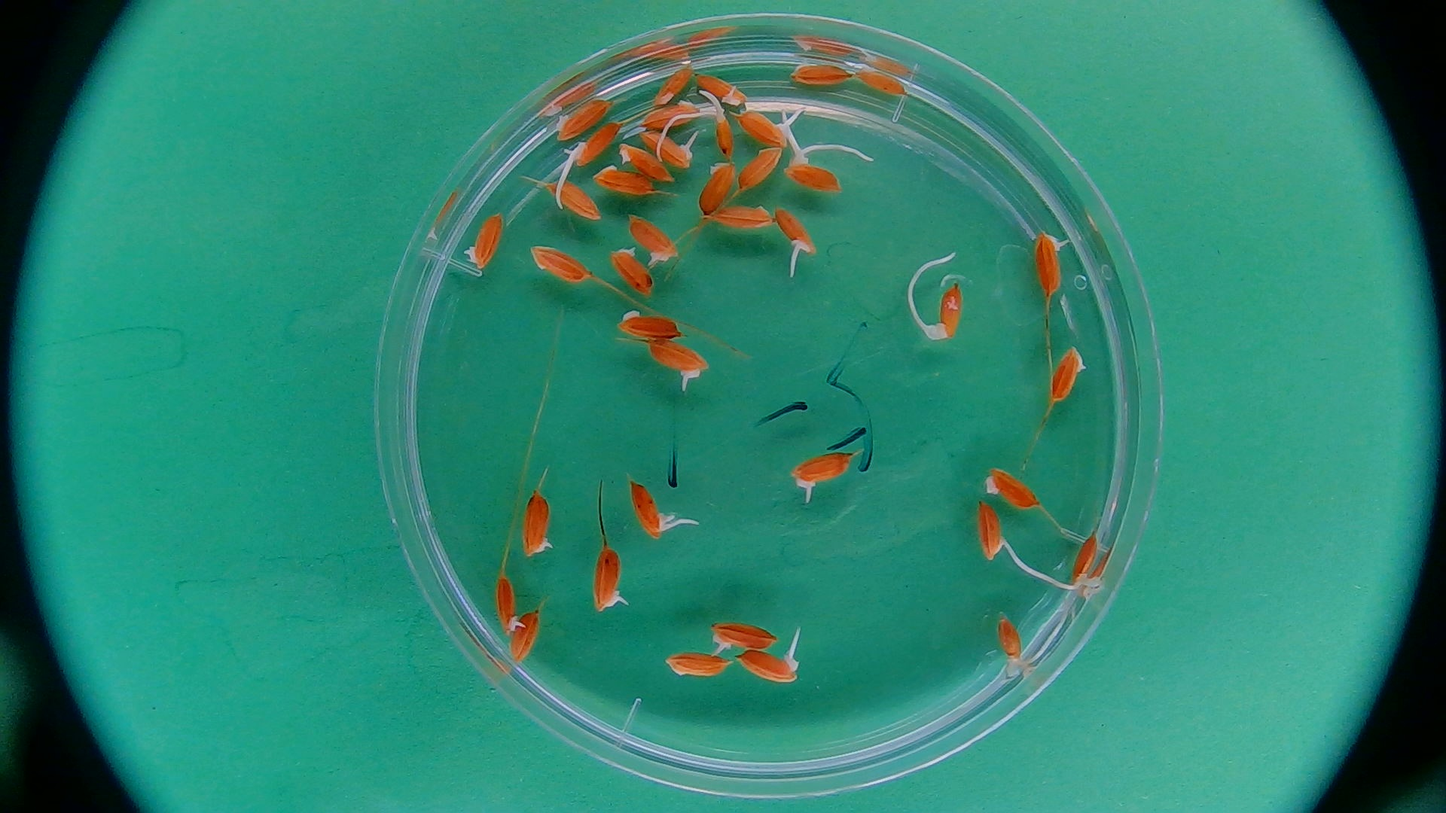no: (524, 168, 605, 226), (972, 464, 1046, 514), (549, 93, 618, 143), (526, 243, 603, 286), (606, 239, 660, 300), (612, 142, 676, 187), (1046, 336, 1084, 411), (852, 59, 913, 105), (739, 142, 787, 193), (645, 59, 698, 105), (712, 202, 782, 236), (617, 309, 685, 343), (463, 215, 504, 271), (592, 164, 656, 199), (695, 158, 734, 214), (662, 650, 732, 679), (508, 606, 541, 665), (790, 58, 853, 88)
yes: (627, 216, 684, 268), (648, 336, 712, 382), (735, 647, 803, 688), (517, 493, 553, 562), (627, 480, 667, 540), (636, 130, 702, 166), (789, 453, 853, 489), (784, 158, 843, 197), (740, 108, 792, 152), (703, 75, 755, 119), (565, 126, 622, 166), (636, 99, 705, 132), (708, 623, 782, 653), (1034, 230, 1066, 297), (702, 107, 738, 166), (772, 208, 816, 254), (932, 282, 966, 341), (975, 500, 1007, 562), (596, 537, 622, 611), (1062, 534, 1097, 587), (493, 572, 520, 637), (996, 609, 1026, 665)
